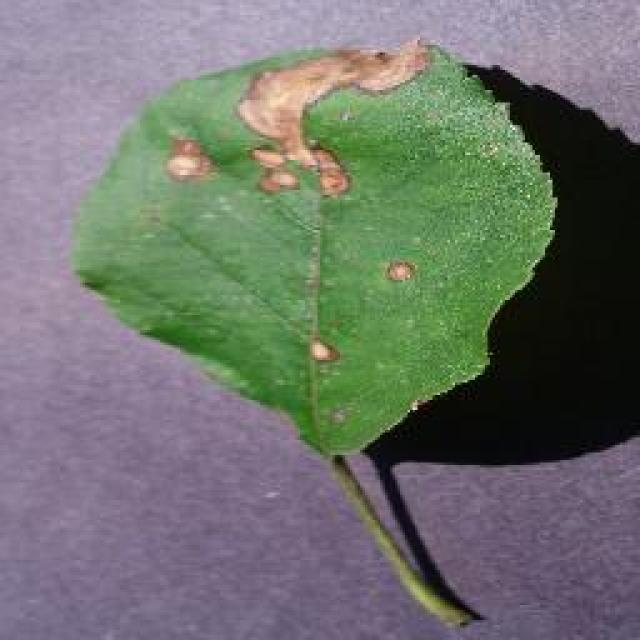Black_rot: (68, 35, 560, 627)
